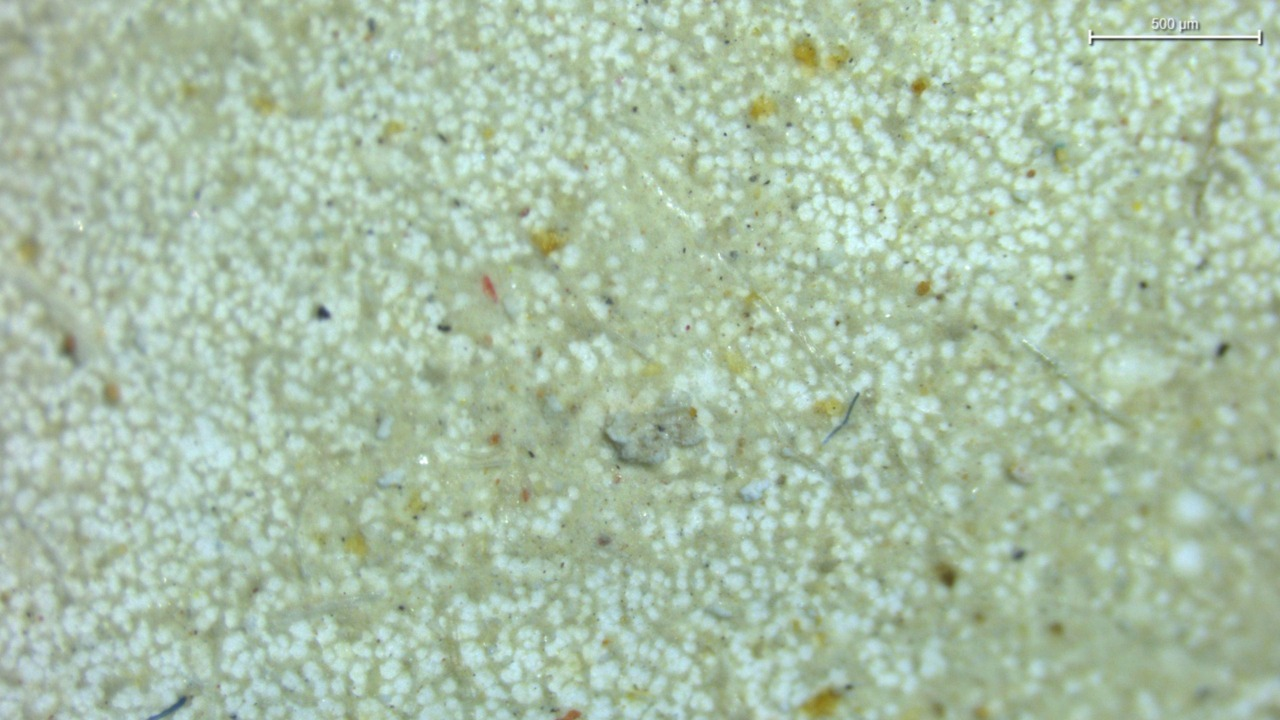microplastic_fragment: (605, 401, 704, 465), (739, 479, 771, 501)
